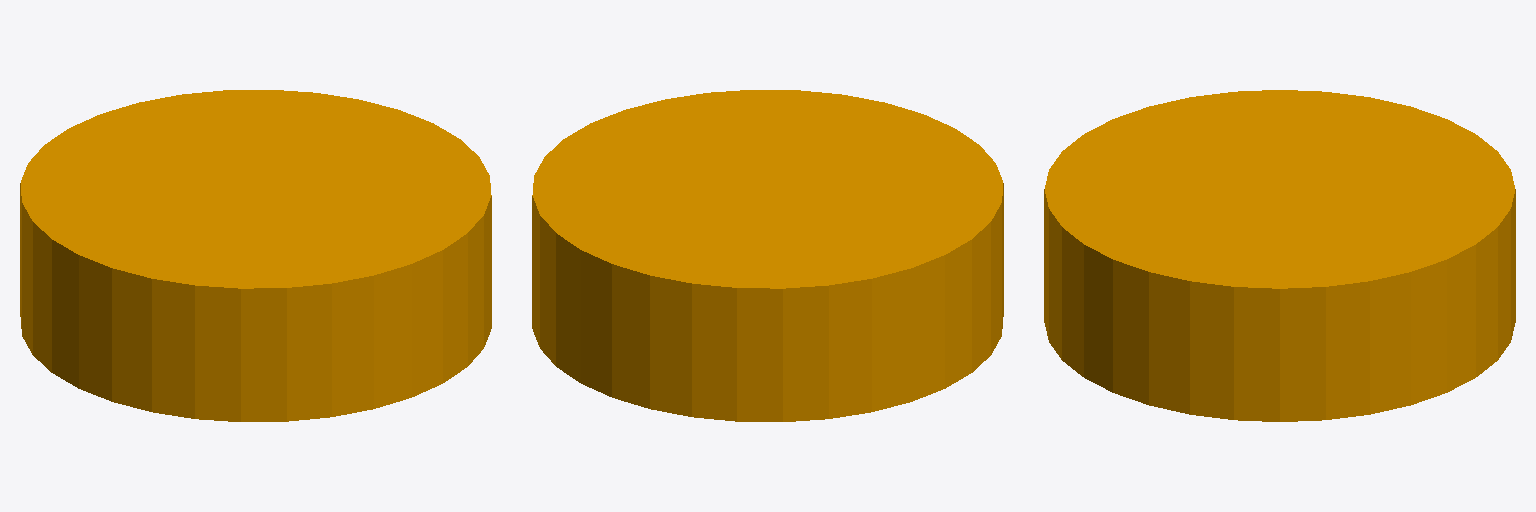
The robot description file, URDF, robot "red_box":
<?xml version="1.0"?>
<robot name="red_box">

<link name="base_link">
  <collision>
    <origin xyz="0 0 0.02" rpy="0 0 0"/>
    <geometry>
      <cylinder length="0.025" radius="0.04"/>
    </geometry>
  </collision>

  <visual>
    <origin xyz="0 0 0.02" rpy="0 0 0"/>
    <geometry>
      <cylinder length="0.025" radius="0.04"/>
    </geometry>
  </visual>

  <inertial>
    <origin xyz="0 0 0.02" rpy="0 0 0" />
    <mass value="0.05" />
    <inertia
      ixx="0.001" ixy="0.0"  ixz="0.0"
      iyy="0.001" iyz="0.0"
      izz="0.001" />
  </inertial>
  </link>

<gazebo reference="base_link">
  <material>Gazebo/Blue</material>
    <mu1>5</mu1>
    <mu2>5</mu2>
</gazebo>

</robot>

--- Facts derived from the render (not from the file) ---
The picture shows the robot from 3 angles, left to right: view 1: azimuth 30°, elevation 25°; view 2: azimuth 150°, elevation 25°; view 3: azimuth 270°, elevation 25°; orthographic projection.
Robot: red_box — 1 links, 0 joints (none); root link base_link; default pose: all joints at 0.
Visible links, largest first — view 1: base_link; view 2: base_link; view 3: base_link.
Boxes of the visible links, x1,y1,x2,y2 form: base_link: [20, 90, 491, 421]; base_link: [532, 90, 1003, 421]; base_link: [1044, 90, 1515, 421].
Bounding box of the posed robot: 0.08 × 0.08 × 0.025 m (x, y, z).
Geometry: primitives only (box / cylinder / sphere), no mesh files.